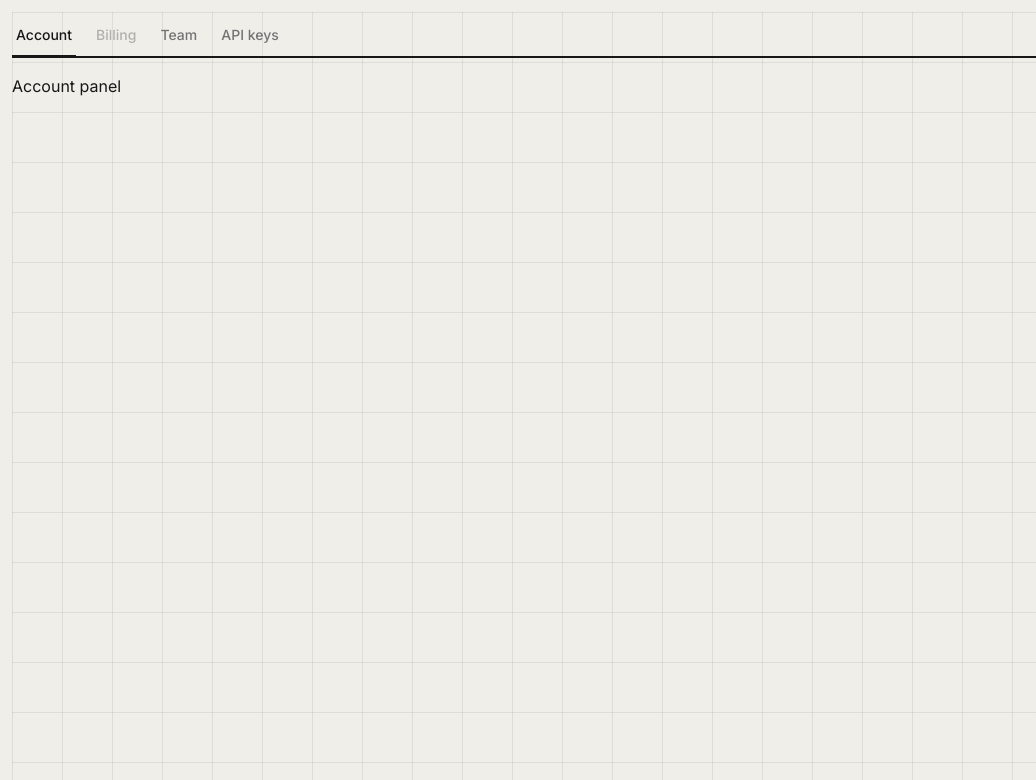
Test: Tabs › selects a tab on click (uncontrolled)
Click the tab "Team" at x=179, y=34, box [156,12,201,56]
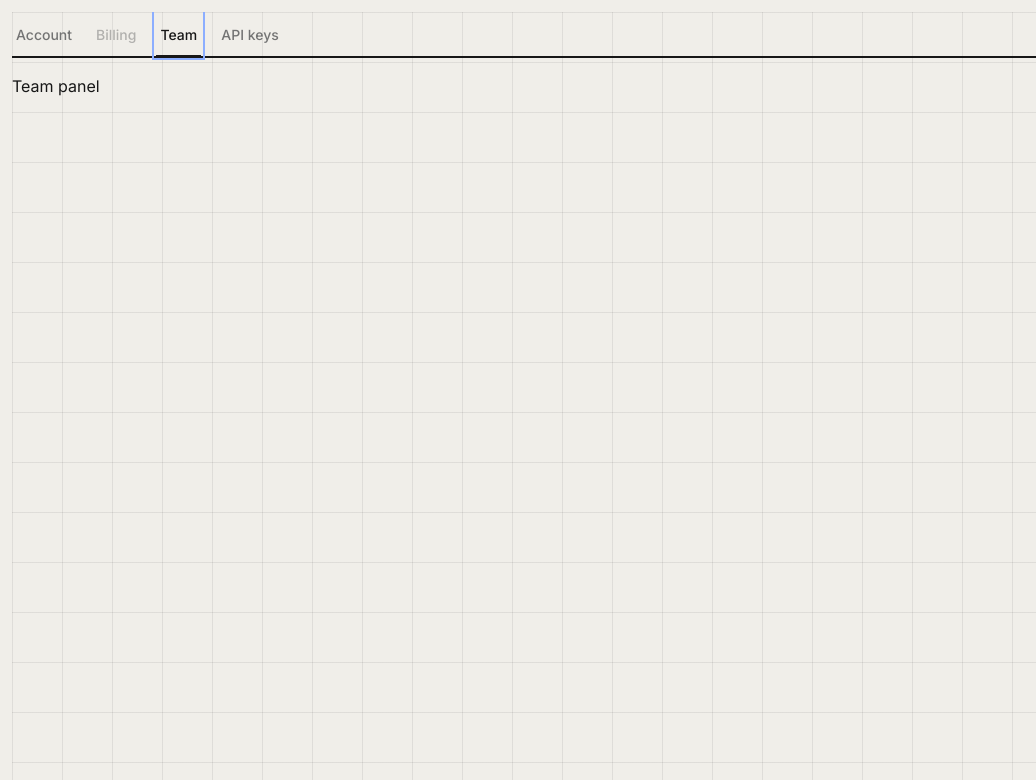
Now the panel reads "Team panel", box [12,76,100,96]
